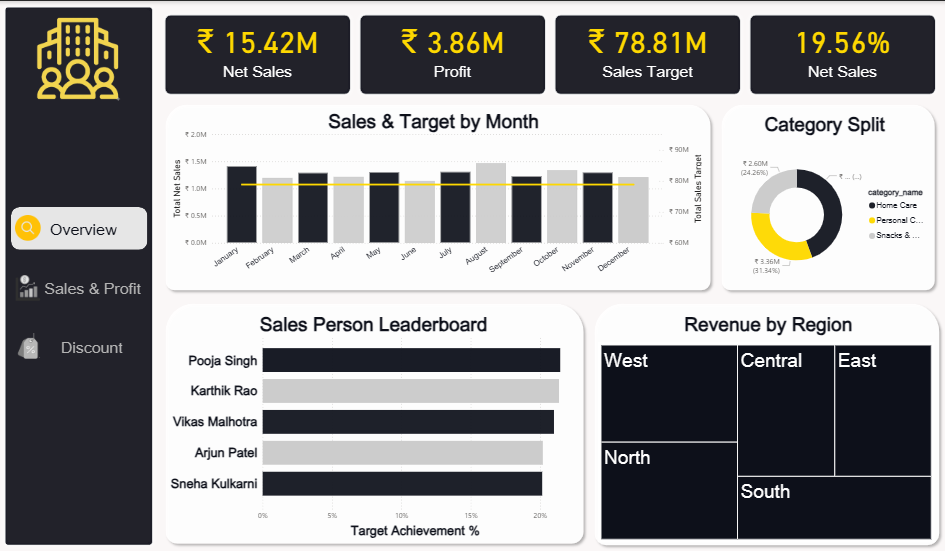

The page's visual inventory and layout, read from the dashboard file:
{"tool":"powerbi","page":{"name":"Overview","canvas":[1580,920],"ordinal":0},"visuals":[{"type":"shape","box":[0,1.7,263.3,916.7],"z":0},{"type":"shape","box":[593.6,15.7,326.8,149.3],"z":1000},{"type":"shape","box":[919.7,15.7,326.8,149.3],"z":2000},{"type":"shape","box":[1245.7,15.7,326.8,149.3],"z":3000},{"type":"shape","box":[267.5,15,326.8,149.3],"z":4000},{"type":"card","fields":{"Values":["fact_sales_transactions.Total Net Sales"]},"box":[267.6,26.4,326,72.8],"z":5000},{"type":"textbox","box":[267.6,93.8,326,56.8],"z":6000},{"type":"card","fields":{"Values":["fact_sales_transactions.Total Profit"]},"box":[593.8,27.1,326,72.8],"z":7000},{"type":"card","fields":{"Values":["fact_sales_transactions.Total Sales Target"]},"box":[919.8,27.1,326,72.8],"z":8000},{"type":"card","fields":{"Values":["fact_sales_transactions.Target Achievement %"]},"box":[1245.8,27.1,326,72.8],"z":9000},{"type":"textbox","box":[593.8,94.5,326,56.8],"z":10000},{"type":"shape","box":[1197.5,163.8,375,328.8],"z":11000},{"type":"textbox","box":[919.8,94.5,326,56.8],"z":12000},{"type":"shape","box":[267.5,497.5,717.5,420],"z":13000},{"type":"shape","box":[985,497.5,595,422.5],"z":14000},{"type":"shape","box":[267.5,163.8,930,328.8],"z":15000},{"type":"textbox","box":[1245.8,94.5,326,56.8],"z":16000},{"type":"lineClusteredColumnComboChart","fields":{"Category":["dim_date.date.Variation.Date Hierarchy.Month"],"Y":["fact_sales_transactions.Total Net Sales"],"Y2":["fact_sales_transactions.Total Sales Target"]},"box":[282.5,208.8,896.2,267.5],"z":17000},{"type":"treemap","fields":{"Group":["dim_region.region"],"Values":["fact_sales_transactions.Total Net Sales"]},"box":[1000,570,562.5,335],"z":18000},{"type":"clusteredBarChart","fields":{"Category":["dim_salesperson.name"],"Y":["fact_sales_transactions.Target Achievement %"]},"box":[280,547.5,687.5,357.5],"z":19000},{"type":"donutChart","fields":{"Y":["fact_sales_transactions.Total Net Sales"],"Category":["dim_category.category_name"]},"box":[1207.5,230,353.8,253.8],"z":20000},{"type":"textbox","box":[281.4,174.3,897.1,58.6],"z":21000},{"type":"textbox","box":[1208.6,178.6,340,57.1],"z":22000},{"type":"textbox","box":[1008.6,512.9,552.9,57.1],"z":23000},{"type":"shape","box":[18.3,345,228.3,71.7],"z":24000},{"type":"textbox","box":[282.9,512.9,684.3,57.1],"z":25000},{"type":"pageNavigator","box":[41.7,340,195,83.3],"z":26000},{"type":"pageNavigator","box":[43.3,438.3,223.3,83.3],"z":27000},{"type":"pageNavigator","box":[41.7,536.7,223.3,83.3],"z":28000},{"type":"image","box":[20,358.3,53.3,43.3],"z":29000},{"type":"image","box":[20,458.3,53.3,43.3],"z":30000},{"type":"image","box":[20,555,53.3,43.3],"z":31000},{"type":"image","box":[15.9,19.4,229.5,151.8],"z":31001}]}

Visuals, with their boxes on the page's 1580x920 design canvas (x1, y1, x2, y2). These are canvas units, not pixel positions in the 945x551 screenshot, which may show the page scaled, cropped or inside an application window:
shape: (left=0, top=2, right=263, bottom=918)
shape: (left=594, top=16, right=920, bottom=165)
shape: (left=920, top=16, right=1246, bottom=165)
shape: (left=1246, top=16, right=1572, bottom=165)
shape: (left=268, top=15, right=594, bottom=164)
card - fact_sales_transactions.Total Net Sales: (left=268, top=26, right=594, bottom=99)
textbox: (left=268, top=94, right=594, bottom=151)
card - fact_sales_transactions.Total Profit: (left=594, top=27, right=920, bottom=100)
card - fact_sales_transactions.Total Sales Target: (left=920, top=27, right=1246, bottom=100)
card - fact_sales_transactions.Target Achievement %: (left=1246, top=27, right=1572, bottom=100)
textbox: (left=594, top=94, right=920, bottom=151)
shape: (left=1198, top=164, right=1572, bottom=493)
textbox: (left=920, top=94, right=1246, bottom=151)
shape: (left=268, top=498, right=985, bottom=918)
shape: (left=985, top=498, right=1580, bottom=920)
shape: (left=268, top=164, right=1198, bottom=493)
textbox: (left=1246, top=94, right=1572, bottom=151)
lineClusteredColumnComboChart - dim_date.date.Variation.Date Hierarchy.Month x fact_sales_transactions.Total Net Sales: (left=282, top=209, right=1179, bottom=476)
treemap - dim_region.region x fact_sales_transactions.Total Net Sales: (left=1000, top=570, right=1562, bottom=905)
clusteredBarChart - dim_salesperson.name x fact_sales_transactions.Target Achievement %: (left=280, top=548, right=968, bottom=905)
donutChart - fact_sales_transactions.Total Net Sales x dim_category.category_name: (left=1208, top=230, right=1561, bottom=484)
textbox: (left=281, top=174, right=1178, bottom=233)
textbox: (left=1209, top=179, right=1549, bottom=236)
textbox: (left=1009, top=513, right=1562, bottom=570)
shape: (left=18, top=345, right=247, bottom=417)
textbox: (left=283, top=513, right=967, bottom=570)
pageNavigator: (left=42, top=340, right=237, bottom=423)
pageNavigator: (left=43, top=438, right=267, bottom=522)
pageNavigator: (left=42, top=537, right=265, bottom=620)
image: (left=20, top=358, right=73, bottom=402)
image: (left=20, top=458, right=73, bottom=502)
image: (left=20, top=555, right=73, bottom=598)
image: (left=16, top=19, right=245, bottom=171)
